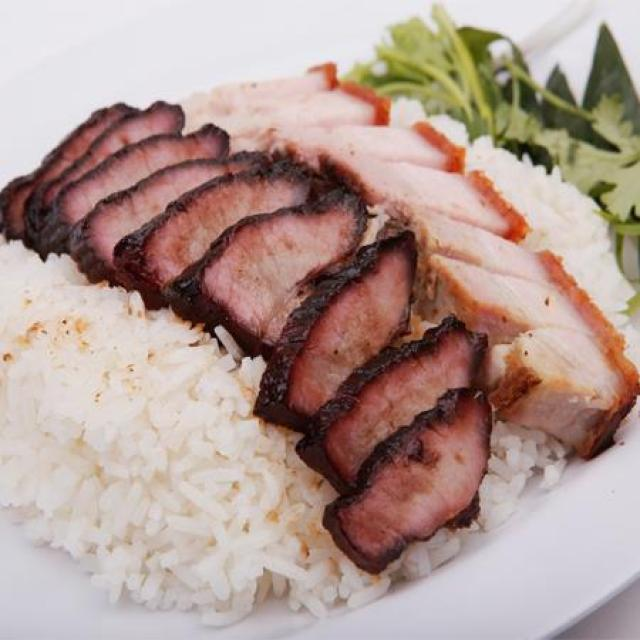Pork: (0, 68, 639, 569)
Rice: (0, 239, 567, 623), (391, 98, 639, 367)
